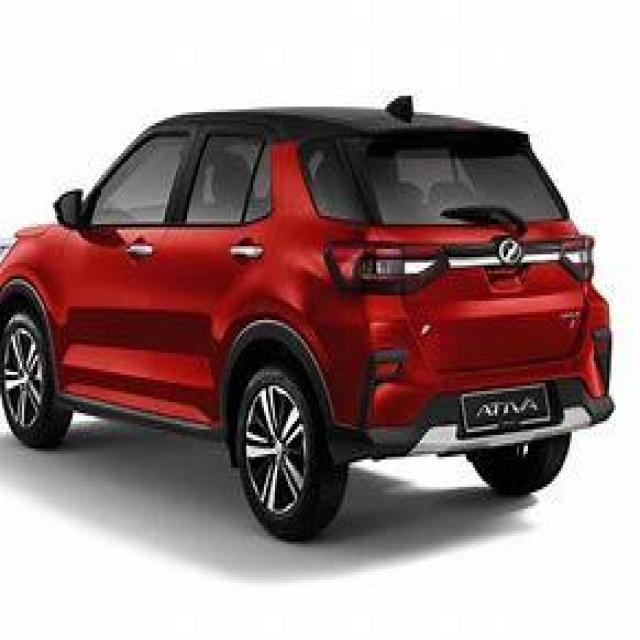PeroduaAtiva: (0, 93, 616, 542)
